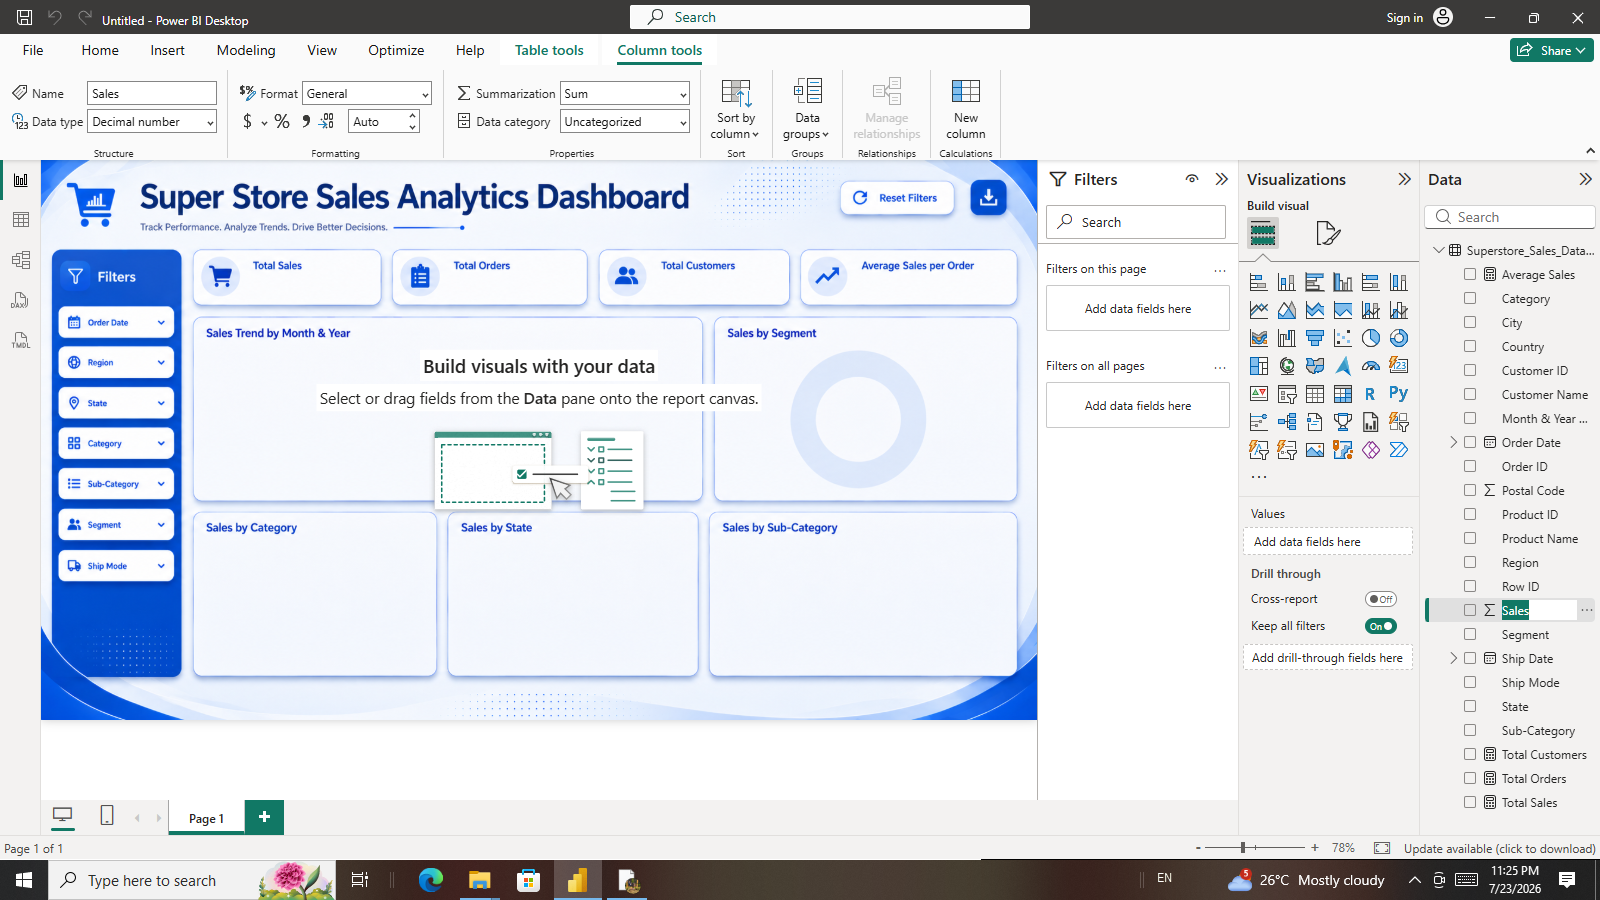

The dashboard page shown, as its layout file describes it:
{"tool":"powerbi","page":{"name":"Page 1","canvas":[1280,720],"ordinal":0},"visuals":[{"type":"cardVisual","fields":{"Data":["Superstore_Sales_Dataset.Total Sales"]},"box":[241.6,119.5,199.2,79.7],"z":0},{"type":"cardVisual","fields":{"Data":["Superstore_Sales_Dataset.Total Orders"]},"box":[534.6,119.5,164.5,79.7],"z":1000},{"type":"cardVisual","fields":{"Data":["Superstore_Sales_Dataset.Total Customers"]},"box":[809.6,119.5,164.5,79.7],"z":2000},{"type":"cardVisual","fields":{"Data":["Superstore_Sales_Dataset.Average Sales"]},"box":[1033.3,119.5,194.1,79.7],"z":3000},{"type":"lineChart","fields":{"Category":["Superstore_Sales_Dataset.Month & Year Order"],"Y":["Sum(Superstore_Sales_Dataset.Sales)"]},"box":[190.2,210.8,655.4,248],"z":4000},{"type":"donutChart","fields":{"Y":["Sum(Superstore_Sales_Dataset.Sales)"],"Category":["Superstore_Sales_Dataset.Segment"]},"box":[876.5,196.6,350.8,276.3],"z":5000},{"type":"clusteredBarChart","fields":{"Category":["Superstore_Sales_Dataset.Category"],"Y":["Sum(Superstore_Sales_Dataset.Sales)"]},"box":[181.2,458.8,383,215.9],"z":6000},{"type":"clusteredColumnChart","fields":{"Category":["Superstore_Sales_Dataset.State"],"Y":["Sum(Superstore_Sales_Dataset.Sales)"]},"box":[517.9,458.8,340.6,215.9],"z":7000},{"type":"treemap","fields":{"Group":["Superstore_Sales_Dataset.Sub-Category"],"Values":["Sum(Superstore_Sales_Dataset.Sales)"]},"box":[858.5,472.9,394.5,182.5],"z":8000},{"type":"slicer","fields":{"Values":["Superstore_Sales_Dataset.Order Date"]},"box":[16.1,192.8,155.6,35],"z":9000},{"type":"slicer","fields":{"Values":["Superstore_Sales_Dataset.Region"]},"box":[16.2,259.2,155.4,34.6],"z":10000},{"type":"slicer","fields":{"Values":["Superstore_Sales_Dataset.State"]},"box":[16,317.3,155.3,34.7],"z":11000},{"type":"slicer","fields":{"Values":["Superstore_Sales_Dataset.Category"]},"box":[16,385.3,155.3,34.7],"z":12000},{"type":"slicer","fields":{"Values":["Superstore_Sales_Dataset.Sub-Category"]},"box":[16,448.7,155.3,34.7],"z":13000},{"type":"slicer","fields":{"Values":["Superstore_Sales_Dataset.Segment"]},"box":[16,512,155.3,34.7],"z":14000},{"type":"slicer","fields":{"Values":["Superstore_Sales_Dataset.Ship Mode"]},"box":[16,578.7,155.3,34.7],"z":15000},{"type":"shape","box":[1026.9,26.2,146.2,44.6],"z":16000}]}

Visuals, with their boxes on the page's 1280x720 design canvas (x1, y1, x2, y2). These are canvas units, not pixel positions in the 1600x900 screenshot, which may show the page scaled, cropped or inside an application window:
cardVisual - Superstore_Sales_Dataset.Total Sales: rect(242, 120, 441, 199)
cardVisual - Superstore_Sales_Dataset.Total Orders: rect(535, 120, 699, 199)
cardVisual - Superstore_Sales_Dataset.Total Customers: rect(810, 120, 974, 199)
cardVisual - Superstore_Sales_Dataset.Average Sales: rect(1033, 120, 1227, 199)
lineChart - Superstore_Sales_Dataset.Month & Year Order x Sum(Superstore_Sales_Dataset.Sales): rect(190, 211, 846, 459)
donutChart - Sum(Superstore_Sales_Dataset.Sales) x Superstore_Sales_Dataset.Segment: rect(876, 197, 1227, 473)
clusteredBarChart - Superstore_Sales_Dataset.Category x Sum(Superstore_Sales_Dataset.Sales): rect(181, 459, 564, 675)
clusteredColumnChart - Superstore_Sales_Dataset.State x Sum(Superstore_Sales_Dataset.Sales): rect(518, 459, 858, 675)
treemap - Superstore_Sales_Dataset.Sub-Category x Sum(Superstore_Sales_Dataset.Sales): rect(858, 473, 1253, 655)
slicer - Superstore_Sales_Dataset.Order Date: rect(16, 193, 172, 228)
slicer - Superstore_Sales_Dataset.Region: rect(16, 259, 172, 294)
slicer - Superstore_Sales_Dataset.State: rect(16, 317, 171, 352)
slicer - Superstore_Sales_Dataset.Category: rect(16, 385, 171, 420)
slicer - Superstore_Sales_Dataset.Sub-Category: rect(16, 449, 171, 483)
slicer - Superstore_Sales_Dataset.Segment: rect(16, 512, 171, 547)
slicer - Superstore_Sales_Dataset.Ship Mode: rect(16, 579, 171, 613)
shape: rect(1027, 26, 1173, 71)
